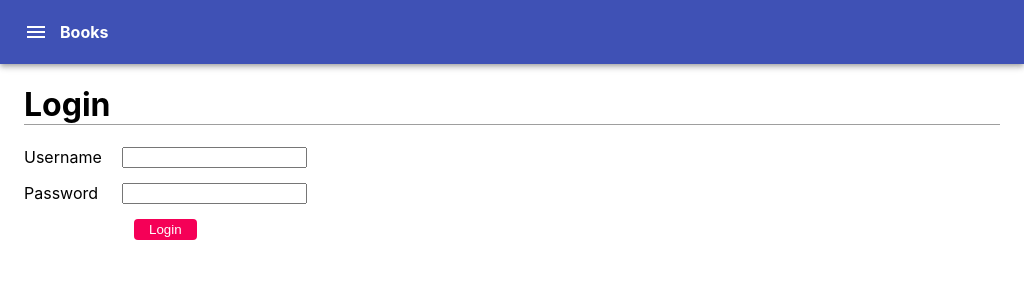
Test: Login › should fail without credentials
Click the button with class "login-button" at [166, 230], box 134,219 -> 197,240
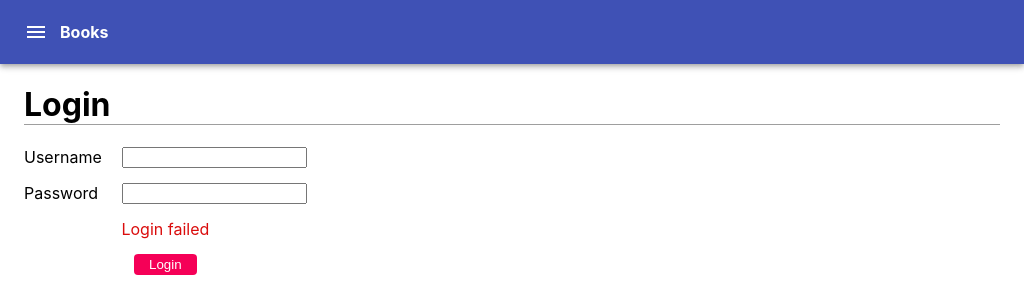
Expected: the text "Login failed" is shown, 122,219 -> 209,239
